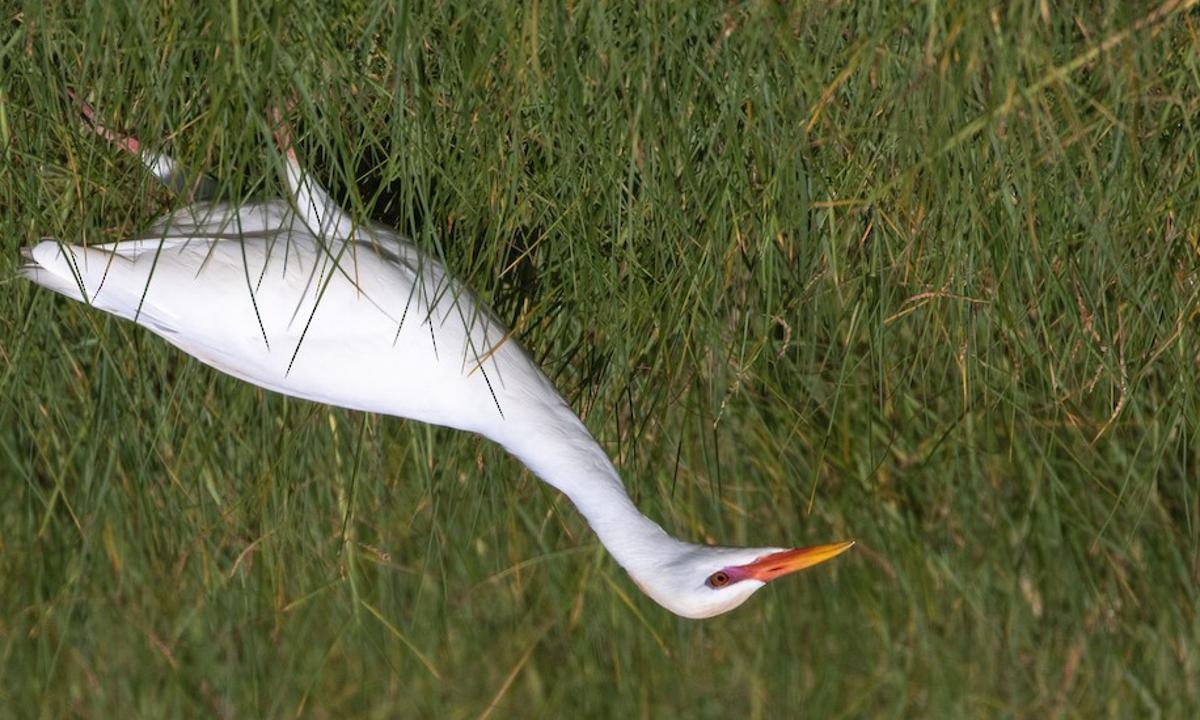egret: (35, 97, 867, 627)
